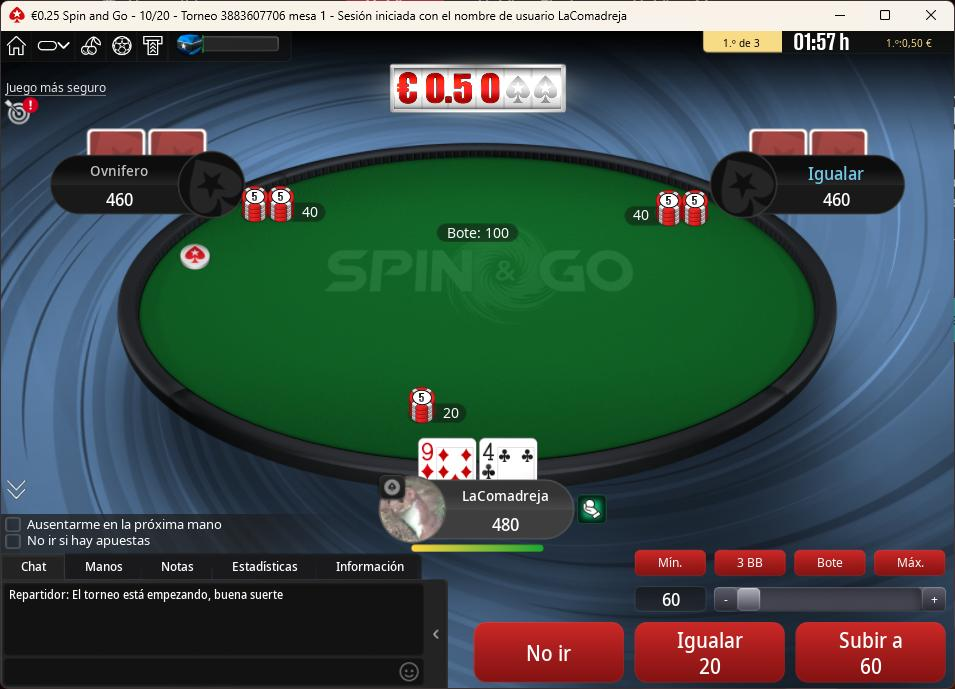ButtonCall: (627, 616, 785, 687)
ButtonCheck: (635, 620, 790, 685)
ButtonFold: (474, 619, 628, 686)
ButtonMaxRaise: (874, 550, 948, 579)
ButtonMinRaise: (634, 548, 708, 577)
ButtonPotRaise: (793, 546, 869, 580)
ButtonRaise: (793, 619, 951, 688)
Dealer: (182, 244, 215, 273)
HiddenCards: (82, 131, 208, 161), (751, 131, 877, 160)
Player: (717, 151, 911, 216), (48, 151, 244, 214)
PlayerBet: (242, 185, 331, 231), (619, 189, 709, 233)
PlayerChips: (822, 188, 856, 212), (104, 190, 139, 210)
Pot: (437, 223, 521, 244)
PrincipalBet: (407, 385, 474, 426)
PrincipalCards: (420, 438, 544, 483)
PrincipalCards1: (414, 436, 478, 483)
PrincipalCards2: (480, 436, 542, 481)
PrincipalPlayer: (370, 469, 569, 539)
PrincipalPlayerChips: (489, 512, 528, 535)
SmallBigBlind: (129, 2, 180, 29)
